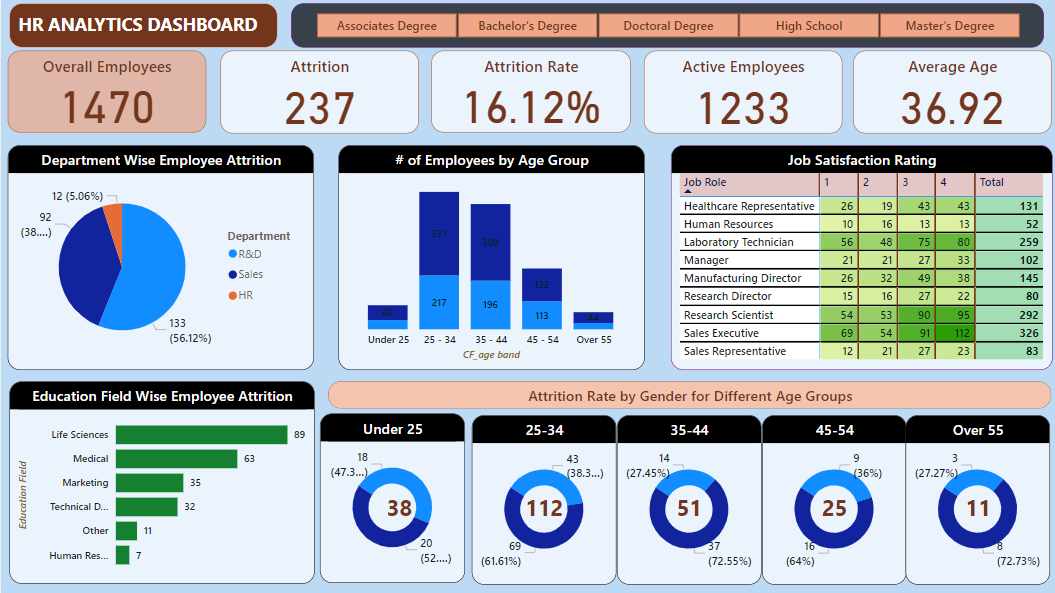

What the dashboard file says about the page in this screenshot:
{"tool":"powerbi","page":{"name":"HR Analytics Dashboard","canvas":[1280,720],"ordinal":0},"visuals":[{"type":"card","title":"Overall Employees","fields":{"Values":["Sum(HR data.Employee Count)"]},"box":[8.3,61.5,239.9,99.1],"z":0},{"type":"card","title":"Attrition ","fields":{"Values":["Sum(HR data.Attrition Count)"]},"box":[264.9,61.5,239.9,100.1],"z":1000},{"type":"card","title":"Attrition Rate","fields":{"Values":["HR data.Attrition Rate"]},"box":[520.4,61.5,240.9,99.1],"z":2000},{"type":"card","title":"Active Employees","fields":{"Values":["HR data.Active employees"]},"box":[778,61.5,239.9,100.1],"z":3000},{"type":"card","title":"Average Age","fields":{"Values":["Avg(HR data.Age)"]},"box":[1031.4,61.5,239.9,100.1],"z":4000},{"type":"pieChart","title":"Department Wise Employee Attrition","fields":{"Category":["HR data.Department"],"Y":["Sum(HR data.Attrition Count)"]},"box":[8.4,175.8,370.2,272.1],"z":5000},{"type":"columnChart","title":"# of Employees by Age Group","fields":{"Category":["HR data.CF_age band"],"Y":["Sum(HR data.Employee Count)"],"Series":["HR data.Gender"]},"box":[407.6,175.8,370.2,272.1],"z":6000},{"type":"pivotTable","title":"Job Satisfaction Rating","fields":{"Rows":["HR data.Job Role"],"Columns":["HR data.Job Satisfaction"],"Values":["Sum(HR data.Employee Count)"]},"box":[809.6,175.8,461.8,272.1],"z":7000},{"type":"barChart","title":"Education Field Wise Employee Attrition","fields":{"Category":["HR data.Education Field"],"Y":["Sum(HR data.Attrition Count)"]},"box":[9.3,461.8,369.3,244.9],"z":8000},{"type":"donutChart","title":"Under 25","fields":{"Category":["HR data.Gender"],"Y":["Sum(HR data.Attrition Count)"],"Series":["HR data.CF_age band"]},"box":[385.4,500,175.6,204.9],"z":9000},{"type":"textbox","title":"Attrition Rate by Gender for Different Age Groups","box":[395.5,461.8,874.1,32.7],"z":10000},{"type":"donutChart","title":"25-34","fields":{"Category":["HR data.Gender"],"Y":["Sum(HR data.Attrition Count)"],"Series":["HR data.CF_age band"]},"box":[570.3,502,174.8,204.7],"z":11000},{"type":"donutChart","title":"35-44","fields":{"Category":["HR data.Gender"],"Y":["Sum(HR data.Attrition Count)"],"Series":["HR data.CF_age band"]},"box":[745.1,503,174.8,204.7],"z":12000},{"type":"donutChart","title":"45-54","fields":{"Category":["HR data.Gender"],"Y":["Sum(HR data.Attrition Count)"],"Series":["HR data.CF_age band"]},"box":[919.9,503,174.8,204.7],"z":13000},{"type":"donutChart","title":"Over 55","fields":{"Category":["HR data.Gender"],"Y":["Sum(HR data.Attrition Count)"],"Series":["HR data.CF_age band"]},"box":[1094.8,502,174.8,204.7],"z":14000},{"type":"card","fields":{"Values":["Sum(HR data.Attrition Count)"]},"box":[459,597.4,45.8,33.7],"z":15000},{"type":"card","fields":{"Values":["Sum(HR data.Attrition Count)"]},"box":[628.8,597.5,57.4,33.4],"z":16000},{"type":"card","fields":{"Values":["Sum(HR data.Attrition Count)"]},"box":[806.1,597.5,53.2,33.4],"z":17000},{"type":"card","fields":{"Values":["Sum(HR data.Attrition Count)"]},"box":[985.4,597.4,45.8,33.7],"z":18000},{"type":"card","fields":{"Values":["Sum(HR data.Attrition Count)"]},"box":[1160.2,597.4,45.8,33.7],"z":19000},{"type":"textbox","box":[9.4,4.2,324.3,53.2],"z":20000},{"type":"slicer","fields":{"Values":["HR data.Education"]},"box":[351,4.1,910.2,53.1],"z":21000}]}

Visuals, with their boxes in screenshot pixels (x1, y1, x2, y2), scaled from the page's 1280x720 canvas onto the 1055x593 screenshot:
"Overall Employees" card: locate(7, 51, 205, 132)
"Attrition " card: locate(218, 51, 416, 133)
"Attrition Rate" card: locate(429, 51, 627, 132)
"Active Employees" card: locate(641, 51, 839, 133)
"Average Age" card: locate(850, 51, 1048, 133)
"Department Wise Employee Attrition" pieChart: locate(7, 145, 312, 369)
"# of Employees by Age Group" columnChart: locate(336, 145, 641, 369)
"Job Satisfaction Rating" pivotTable: locate(667, 145, 1048, 369)
"Education Field Wise Employee Attrition" barChart: locate(8, 380, 312, 582)
"Under 25" donutChart: locate(318, 412, 462, 581)
"Attrition Rate by Gender for Different Age Groups" textbox: locate(326, 380, 1046, 407)
"25-34" donutChart: locate(470, 413, 614, 582)
"35-44" donutChart: locate(614, 414, 758, 583)
"45-54" donutChart: locate(758, 414, 902, 583)
"Over 55" donutChart: locate(902, 413, 1046, 582)
card - Sum(HR data.Attrition Count): locate(378, 492, 416, 520)
card - Sum(HR data.Attrition Count): locate(518, 492, 566, 520)
card - Sum(HR data.Attrition Count): locate(664, 492, 708, 520)
card - Sum(HR data.Attrition Count): locate(812, 492, 850, 520)
card - Sum(HR data.Attrition Count): locate(956, 492, 994, 520)
textbox: locate(8, 3, 275, 47)
slicer - HR data.Education: locate(289, 3, 1040, 47)
